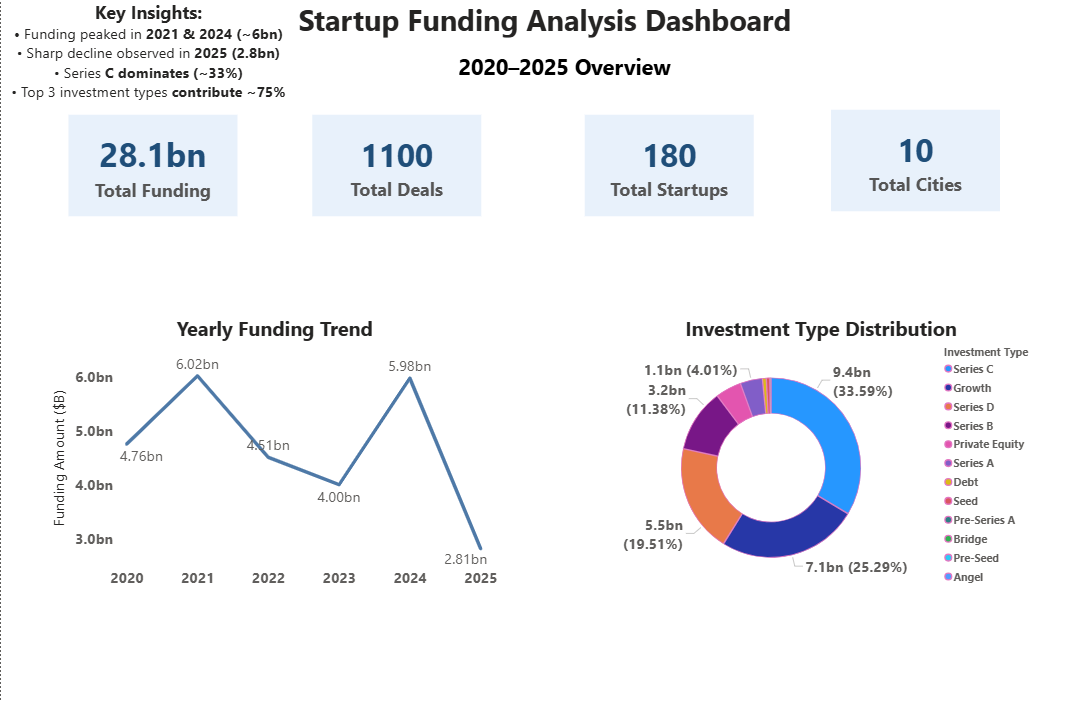

Layout of this report page (visuals, bound fields, positions):
{"tool":"powerbi","page":{"name":"Page 1","canvas":[1600,1200],"ordinal":0},"visuals":[{"type":"card","fields":{"Values":["FullDataset.Total Funding"]},"box":[100,176.7,250,150],"z":0},{"type":"card","fields":{"Values":["FullDataset.Total Deals"]},"box":[461.7,176.7,250,150],"z":1000},{"type":"card","fields":{"Values":["FullDataset.Total Startups"]},"box":[865,175,250,150],"z":2000},{"type":"card","fields":{"Values":["FullDataset.Total Cities"]},"box":[1230,168.3,250,150],"z":3000},{"type":"donutChart","title":"Investment Type Distribution","fields":{"Category":["FullDataset.InvestmentType"],"Y":["FullDataset.Total Funding"]},"box":[865,451.7,700,450],"z":4000},{"type":"lineChart","title":"Yearly Funding Trend","fields":{"Category":["FullDataset.Year"],"Y":["FullDataset.Total Funding"]},"box":[55,451.7,700,450],"z":5000},{"type":"textbox","box":[423.3,0,775,66.7],"z":10000},{"type":"textbox","box":[648.3,78.3,373.3,61.7],"z":11000},{"type":"textbox","box":[337,138.9,13,11.1],"z":12000},{"type":"textbox","box":[0,0,437,168.5],"z":12001}]}

Visuals, with their boxes on the page's 1600x1200 design canvas (x1, y1, x2, y2). These are canvas units, not pixel positions in the 1081x701 screenshot, which may show the page scaled, cropped or inside an application window:
card - FullDataset.Total Funding: box=[100, 177, 350, 327]
card - FullDataset.Total Deals: box=[462, 177, 712, 327]
card - FullDataset.Total Startups: box=[865, 175, 1115, 325]
card - FullDataset.Total Cities: box=[1230, 168, 1480, 318]
"Investment Type Distribution" donutChart: box=[865, 452, 1565, 902]
"Yearly Funding Trend" lineChart: box=[55, 452, 755, 902]
textbox: box=[423, 0, 1198, 67]
textbox: box=[648, 78, 1022, 140]
textbox: box=[337, 139, 350, 150]
textbox: box=[0, 0, 437, 168]
